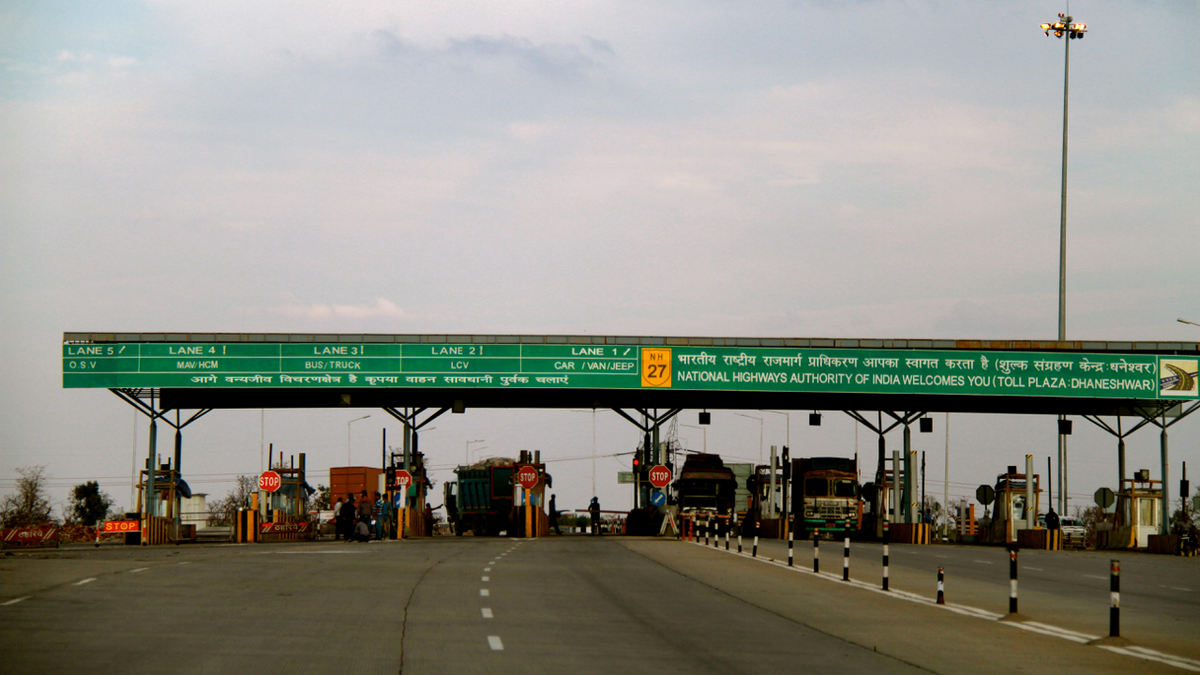toll plaza: (57, 323, 1200, 435), (874, 449, 1184, 551), (125, 447, 429, 549)
